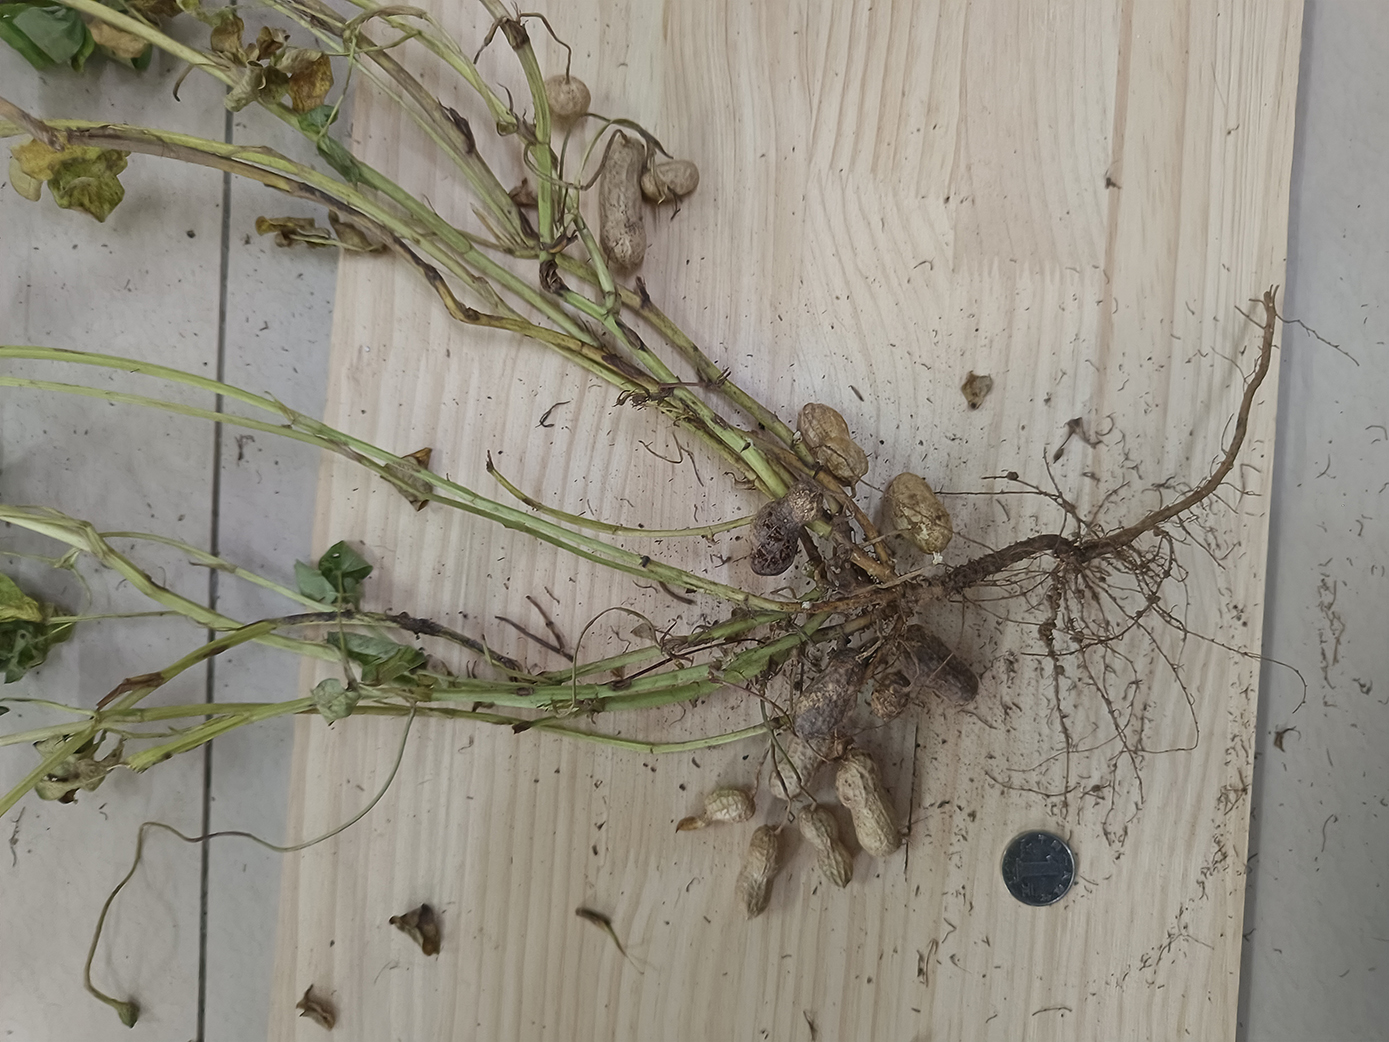h: (837, 751, 898, 861), (603, 134, 651, 271), (797, 403, 869, 482), (887, 471, 953, 555), (733, 826, 782, 918), (800, 803, 852, 887), (773, 730, 827, 797), (640, 159, 701, 199), (544, 76, 591, 118)
l: (748, 481, 821, 577), (798, 649, 867, 736), (906, 627, 976, 703), (675, 787, 754, 830), (872, 674, 908, 716)
